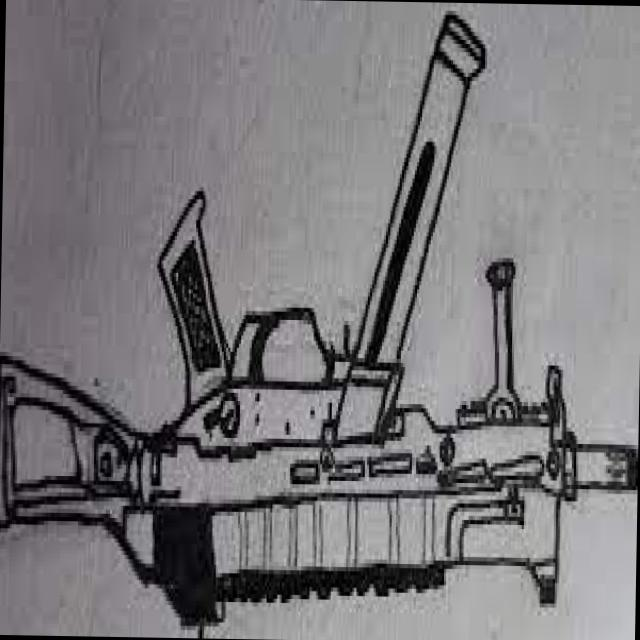Gun: (0, 15, 639, 629)
